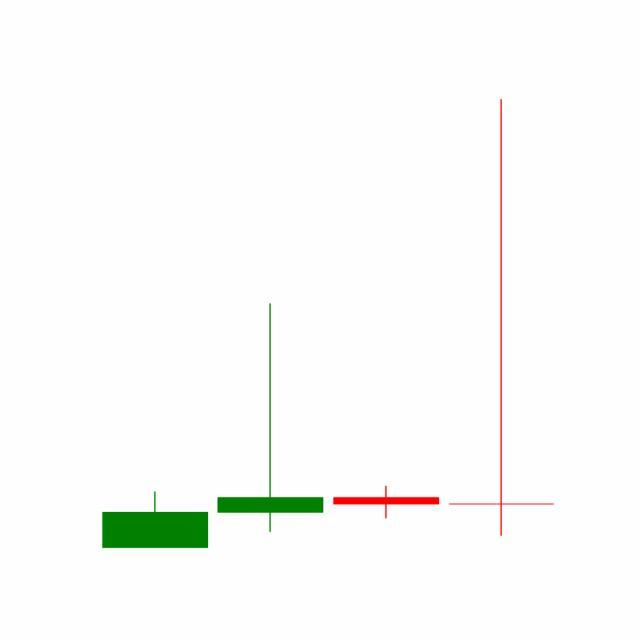Spinning Top: (444, 95, 560, 542)
